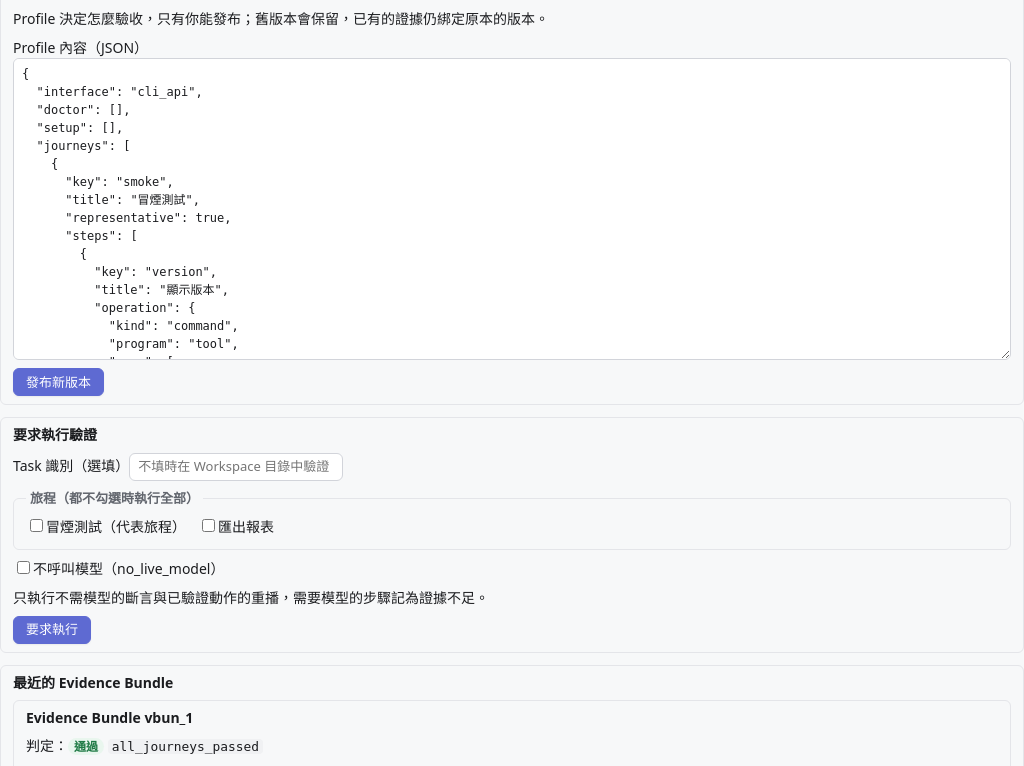
驗證 › 發布：內容相同時說明沒有新增版本
(page scrolled)
Click the button "發布新版本".
click(58, 382)  # box 13,368 -> 104,396
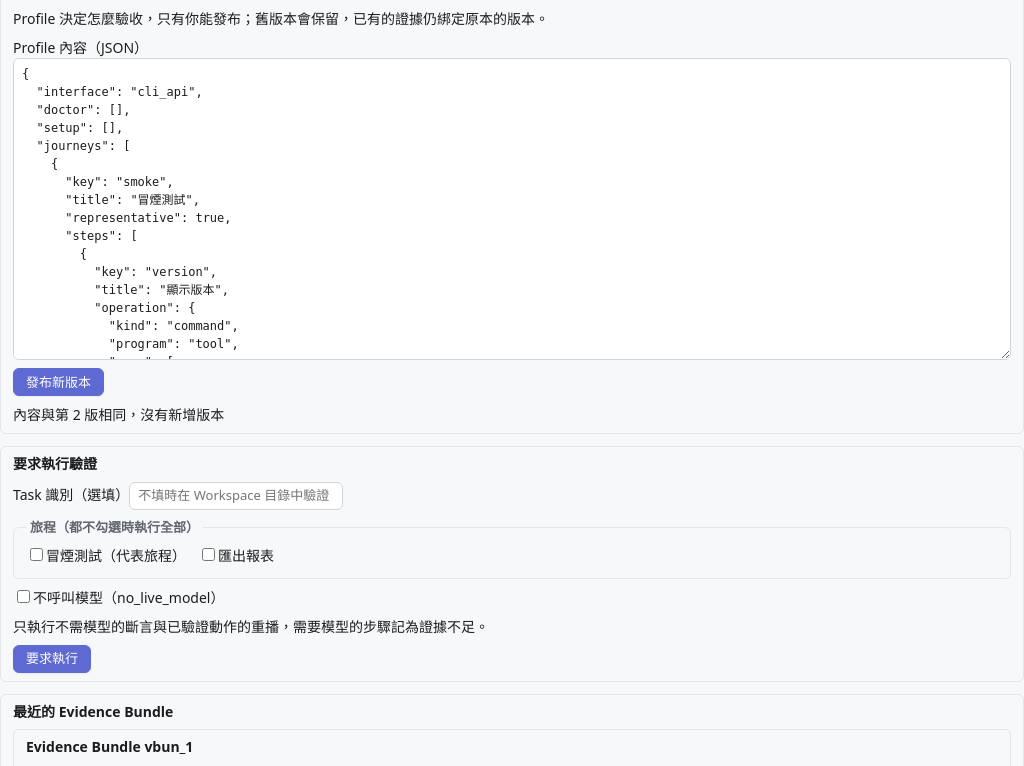
Expected: the message reads "內容與第 2 版相同，沒有新增版本", 13,405 -> 224,424
